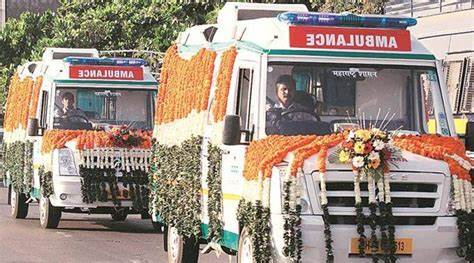ambulance: (152, 18, 469, 263), (5, 45, 169, 228)
